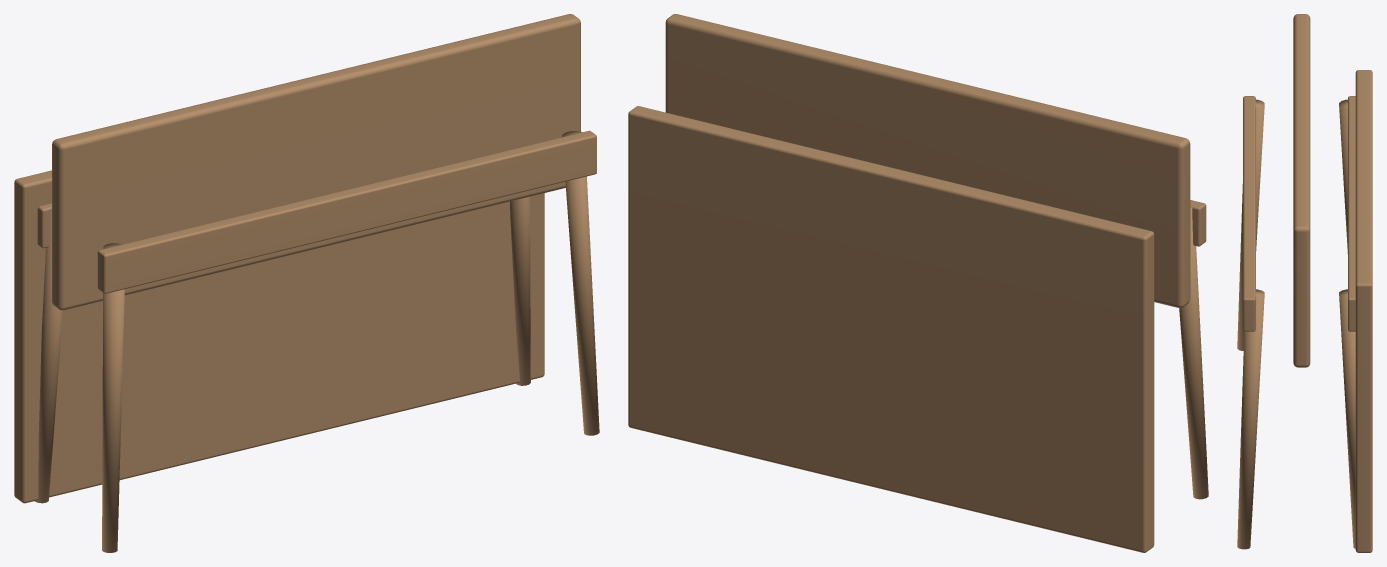
The model's file is atelier-bar-counter.glb.
3 views of the same model, side by side, from view 1: azimuth 30°, elevation 25°; view 2: azimuth 150°, elevation 25°; view 3: azimuth 270°, elevation 25° (orthographic). The views are drawn at different scales.
Parts seen in each view (by area): view 1: legs.064; view 2: legs.064; view 3: legs.064.
Boxes of the visible parts, <box> form: legs.064: <box>14,14,599,552</box>; legs.064: <box>628,14,1208,552</box>; legs.064: <box>1237,14,1372,552</box>.
Size of the model in its own units: 1.8 by 1.28 by 0.4782.
